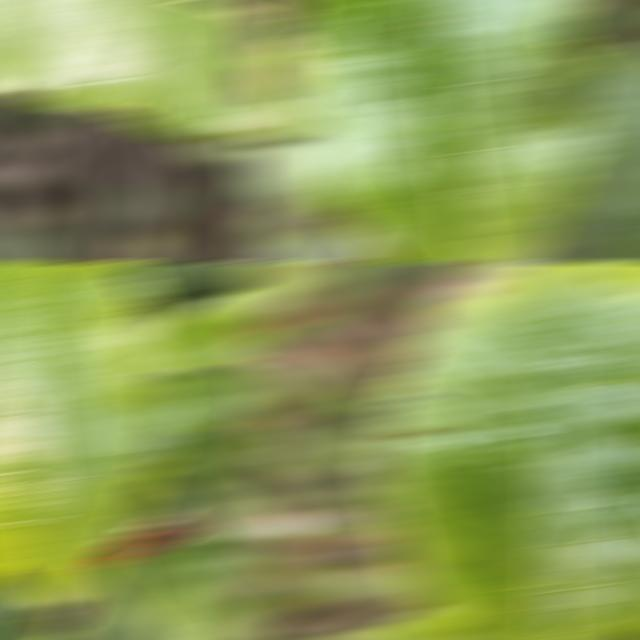Leaf: (369, 263, 640, 639), (283, 1, 596, 261), (0, 263, 175, 608), (0, 1, 260, 139), (519, 41, 640, 261), (109, 535, 260, 639), (140, 287, 260, 368), (154, 367, 260, 430), (238, 142, 339, 207), (179, 473, 260, 543), (238, 263, 318, 320), (174, 420, 260, 472), (353, 608, 481, 639), (138, 263, 241, 295), (238, 100, 318, 140), (0, 591, 32, 639)
